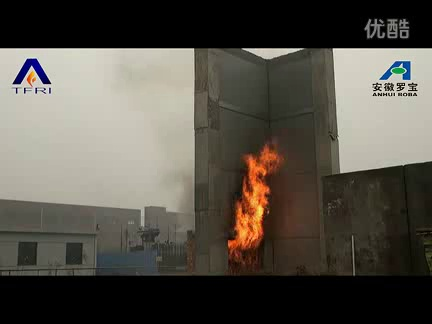fire: (229, 143, 285, 263)
